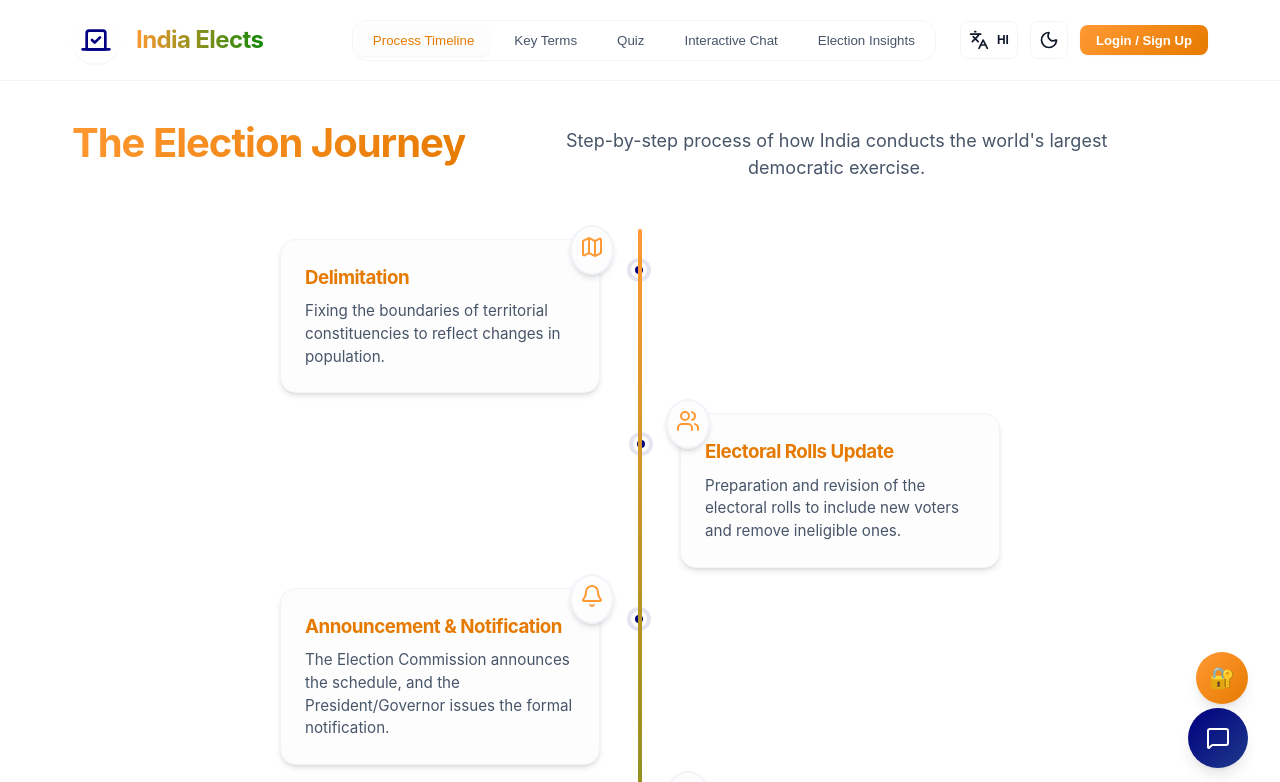
it: 🛡️ App-Level Resilience › Auth modal opens and closes without leaving behind stale DOM
Click the button with id "auth-fab-btn".
click(1222, 678)  # box 1196,652 -> 1248,704
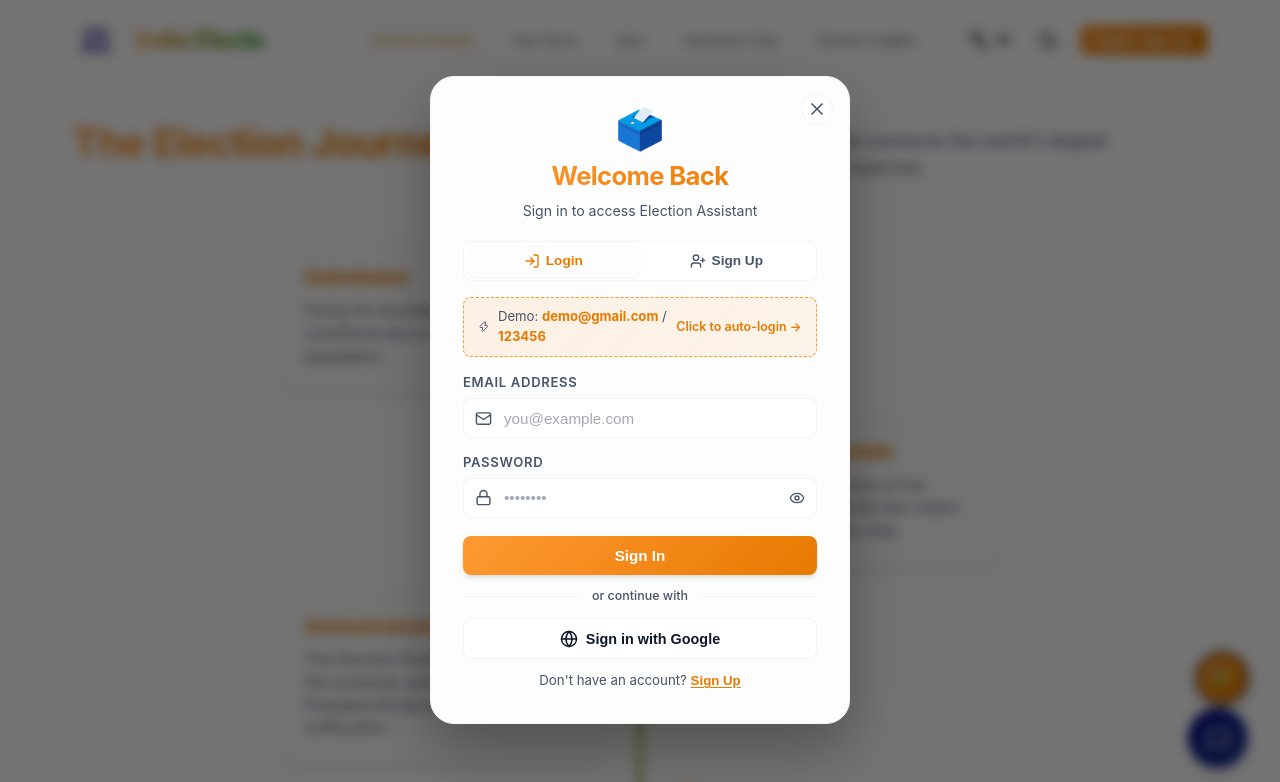
Check: the element with class "auth-modal" is shown, box 430,76 -> 850,724
Click the button with class "auth-close-btn".
click(817, 109)  # box 801,93 -> 833,125
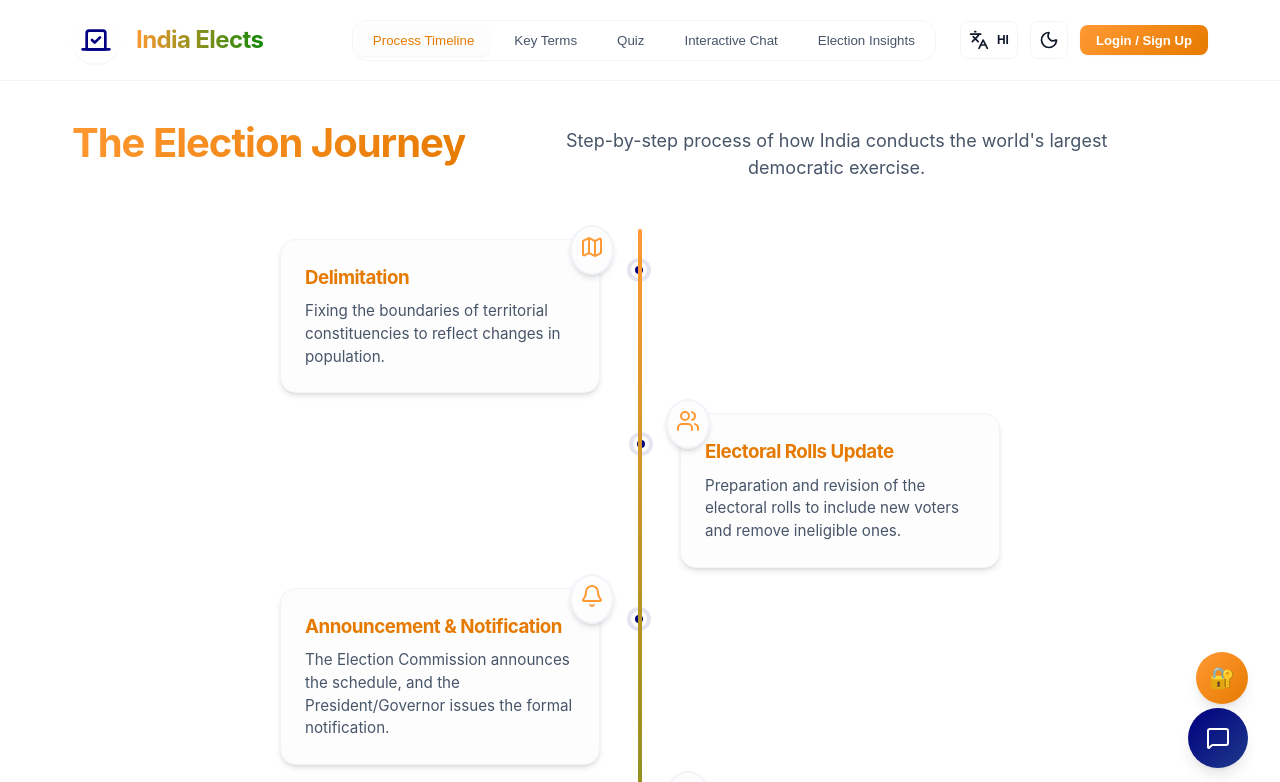
Check: the element with class "auth-modal" is gone
